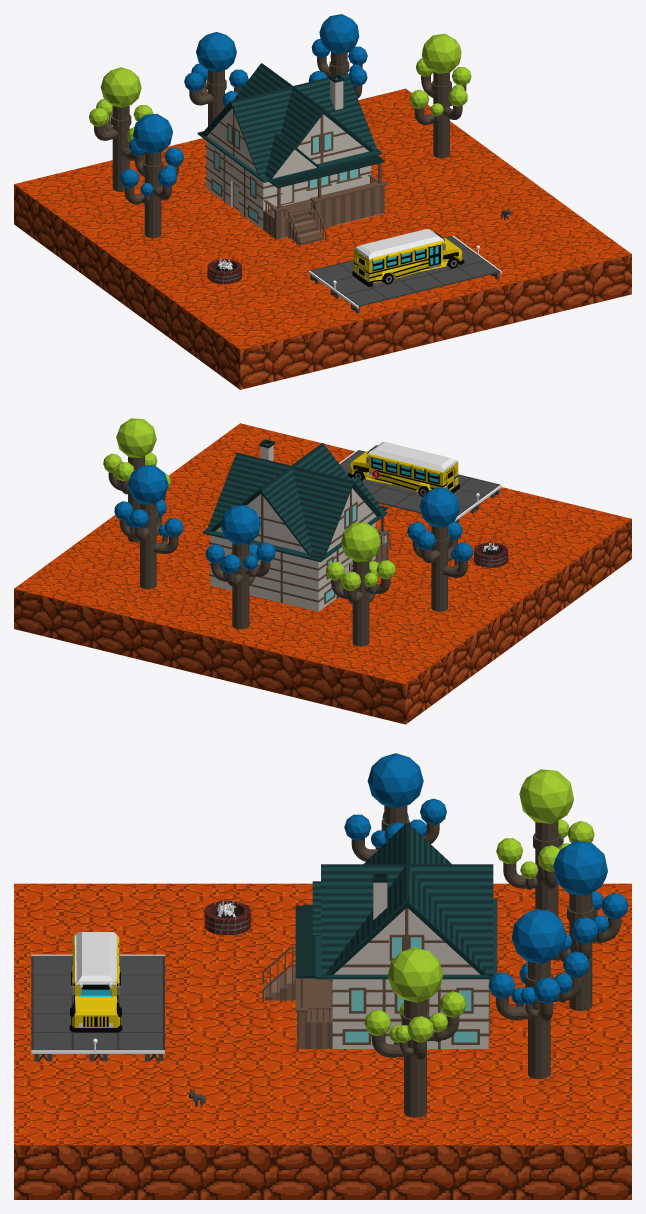
3 views of the same model, one above another, from view 1: azimuth 30°, elevation 25°; view 2: azimuth 150°, elevation 25°; view 3: azimuth 270°, elevation 25° (orthographic). The views are drawn at different scales.
Visible parts, largest first — view 1: Cube.001, Cube.793, VEHICLES_SCHOOL_BUS, OBJRANDOM_CAMPFIRE; view 2: Cube.001, Cube.793, VEHICLES_SCHOOL_BUS, OBJRANDOM_CAMPFIRE; view 3: Cube.001, Cube.793, VEHICLES_SCHOOL_BUS, OBJRANDOM_CAMPFIRE.
Boxes of the visible parts, x1,y1,x2,y2 form: Cube.001: (14, 14, 631, 389); Cube.793: (197, 63, 387, 246); VEHICLES_SCHOOL_BUS: (352, 229, 464, 286); OBJRANDOM_CAMPFIRE: (207, 257, 241, 284); Cube.001: (14, 418, 631, 724); Cube.793: (202, 439, 390, 611); VEHICLES_SCHOOL_BUS: (348, 442, 459, 496); OBJRANDOM_CAMPFIRE: (473, 541, 508, 567); Cube.001: (14, 753, 631, 1199); Cube.793: (262, 823, 497, 1049); VEHICLES_SCHOOL_BUS: (69, 932, 122, 1032); OBJRANDOM_CAMPFIRE: (204, 896, 250, 934).
Size of the model in its own units: 4000 by 1642 by 4000.
Materials: 35 (5 with a texture image).
